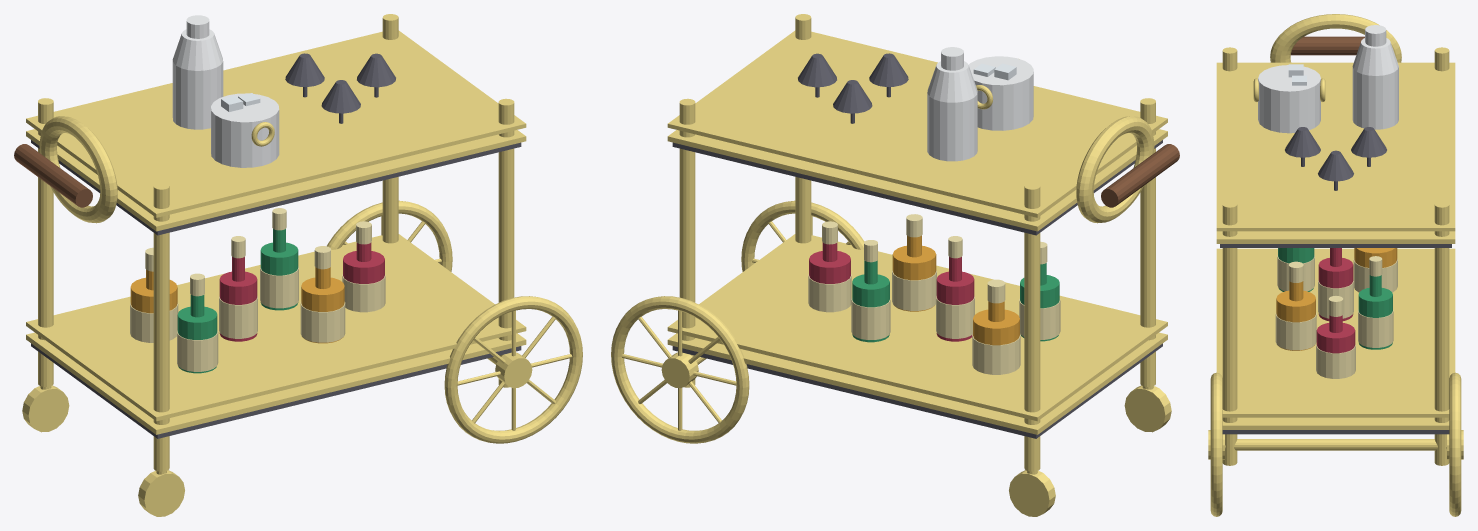
File: club_bar_cart.glb
The picture shows the model from 3 angles, left to right: view 1: azimuth 30°, elevation 25°; view 2: azimuth 150°, elevation 25°; view 3: azimuth 270°, elevation 25°; orthographic projection. The views are drawn at different scales.
Visible parts, largest first — view 1: Cubo.002, Cubo.005, Cubo.004, Cubo.001, Toróide.004, Cilindro, Cilindro.030, Toróide.003, Cilindro.002, Cilindro.001, Cilindro.028, Cubo.003 (+23 smaller); view 2: Cubo.002, Cubo.005, Cubo.004, Cubo.001, Toróide.005, Cilindro.001, Cilindro.030, Toróide.003, Cilindro.003, Cilindro, Cilindro.028, Cubo.003 (+23 smaller); view 3: Cubo.002, Cubo.005, Cilindro.030, Cilindro.002, Cilindro.003, Cubo.001, Cubo.004, Cilindro.028, Cilindro.023, Toróide.003, Toróide.004, Toróide.005 (+24 smaller).
Boxes of the visible parts, x1,y1,x2,y2 form: Cubo.002: (26, 30, 526, 217); Cubo.005: (26, 234, 526, 421); Cubo.004: (26, 332, 526, 434); Cubo.001: (26, 129, 526, 231); Toróide.004: (444, 296, 582, 443); Cilindro: (153, 183, 169, 471); Cilindro.030: (211, 93, 279, 167); Toróide.003: (39, 116, 117, 223); Cilindro.002: (498, 98, 514, 387); Cilindro.001: (38, 98, 53, 386); Cilindro.028: (172, 59, 223, 129); Cubo.003: (31, 343, 521, 438); Cubo.002: (667, 30, 1167, 217); Cubo.005: (667, 234, 1167, 421); Cubo.004: (667, 332, 1167, 434); Cubo.001: (667, 129, 1167, 231); Toróide.005: (611, 296, 749, 443); Cilindro.001: (1024, 183, 1040, 471); Cilindro.030: (969, 56, 1033, 130); Toróide.003: (1076, 116, 1154, 223); Cilindro.003: (679, 98, 695, 387); Cilindro: (1140, 98, 1155, 386); Cilindro.028: (927, 93, 977, 161); Cubo.003: (672, 343, 1162, 438); Cubo.002: (1216, 62, 1455, 231); Cubo.005: (1216, 248, 1455, 417); Cilindro.030: (1258, 65, 1320, 133); Cilindro.002: (1222, 201, 1237, 465); Cilindro.003: (1434, 201, 1449, 465); Cubo.001: (1216, 231, 1455, 243); Cubo.004: (1222, 417, 1449, 429); Cilindro.028: (1352, 67, 1398, 129); Cilindro.023: (1225, 439, 1446, 450); Toróide.003: (1270, 14, 1401, 62); Toróide.004: (1210, 372, 1222, 516); Toróide.005: (1449, 372, 1461, 516).
Size of what is drawn, in the model's own units: 1.51 by 1.26 by 0.77.
